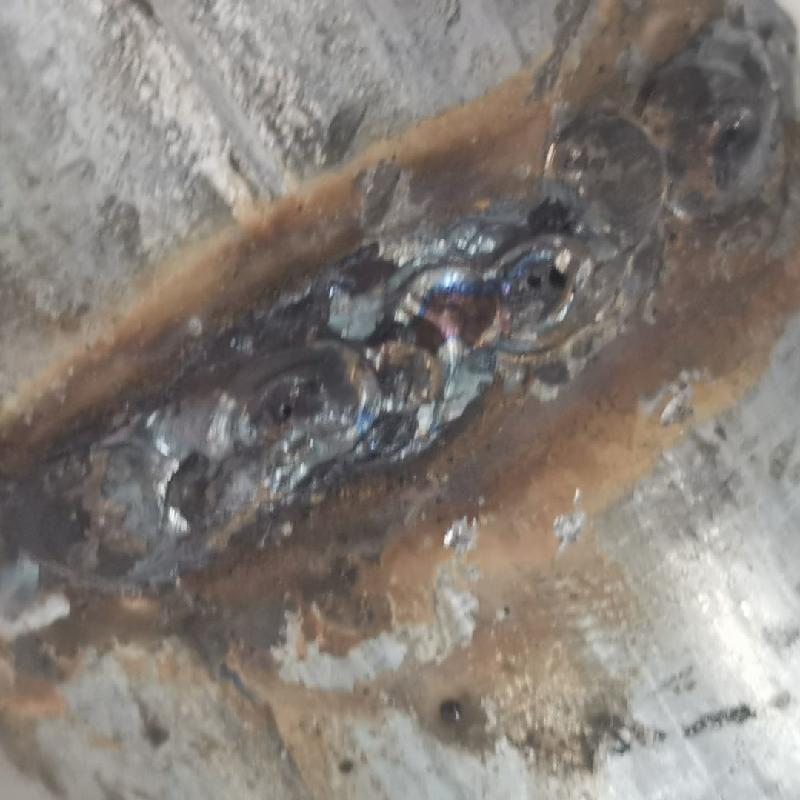Surface_pores: (248, 390, 329, 440), (514, 251, 576, 305)
crater: (194, 217, 595, 477), (553, 20, 793, 221), (4, 405, 200, 611)
